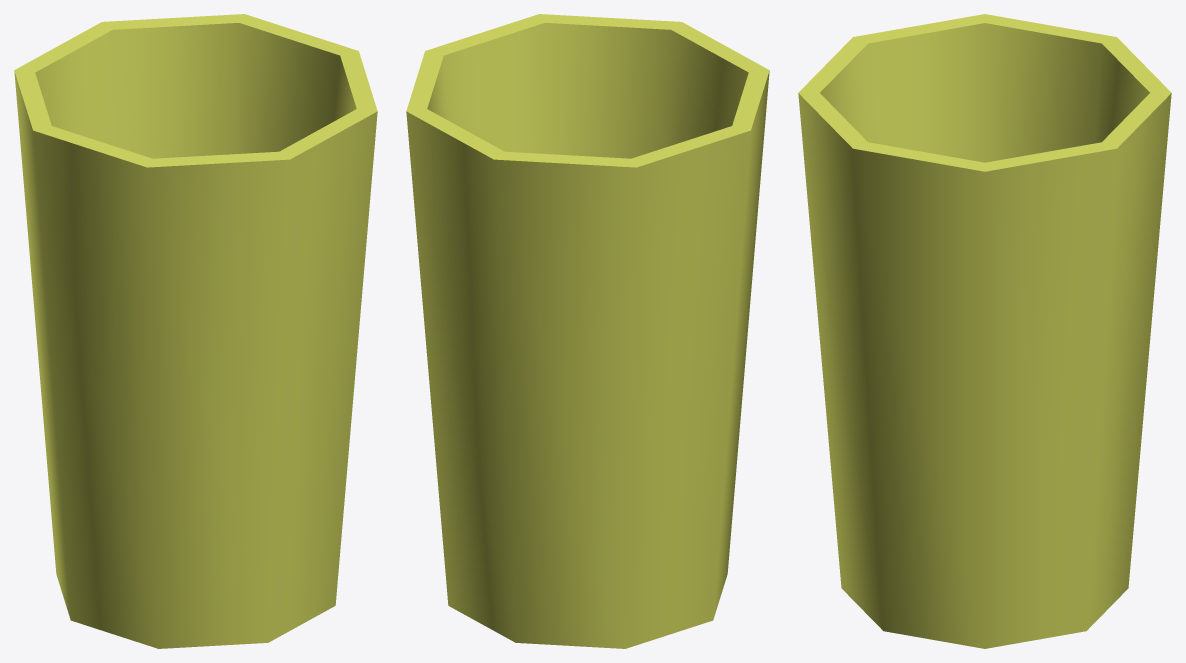
Rendered from li_cup01.fbx.
The picture shows the model from 3 angles, left to right: view 1: azimuth 30°, elevation 25°; view 2: azimuth 150°, elevation 25°; view 3: azimuth 270°, elevation 25°; orthographic projection.
Visible parts, largest first — view 1: li_cup01; view 2: li_cup01; view 3: li_cup01.
Boxes of the visible parts, x1,y1,x2,y2 form: li_cup01: (14,14,377,648); li_cup01: (406,14,769,648); li_cup01: (798,14,1171,648).
Bounding box in the file's own units: 10.6 × 15.52 × 10.6.
